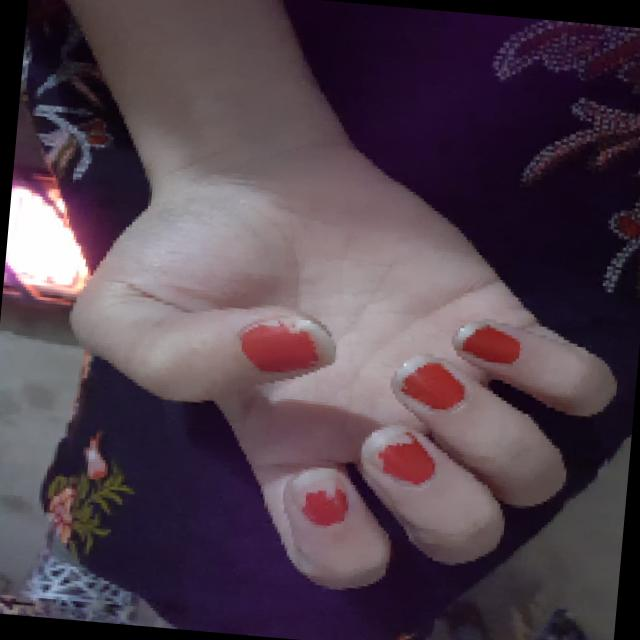Nail: (239, 316, 334, 371), (361, 426, 433, 485), (392, 357, 465, 409), (288, 467, 348, 525), (452, 322, 520, 363)
